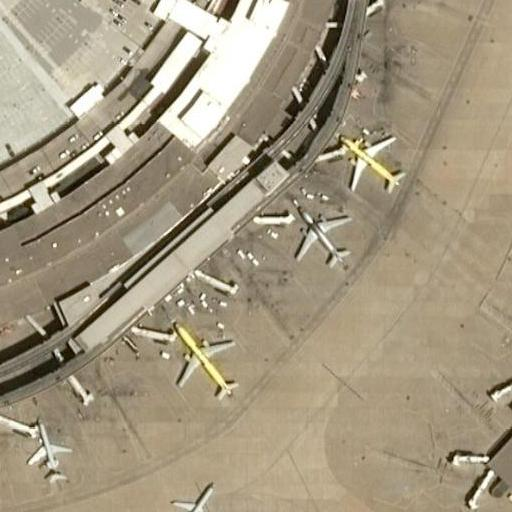Aircraft: (166, 317, 243, 400), (334, 126, 411, 198), (292, 198, 351, 271), (19, 417, 75, 485), (167, 475, 212, 512)
